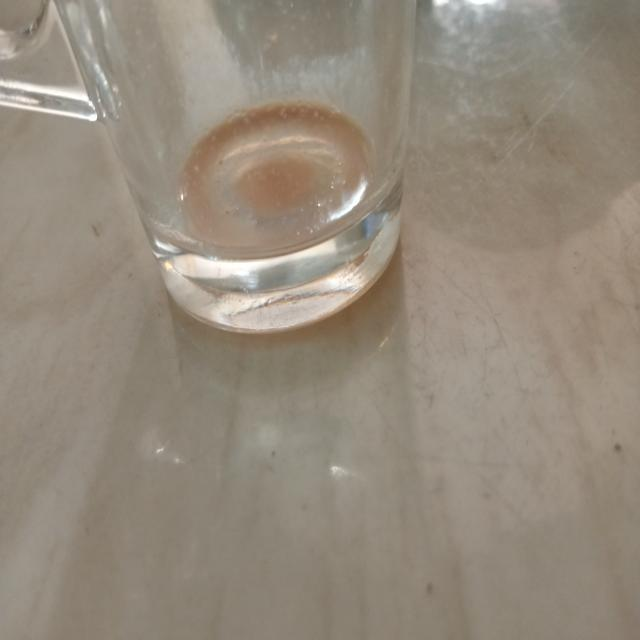glass-VX4N: (3, 0, 417, 335)
